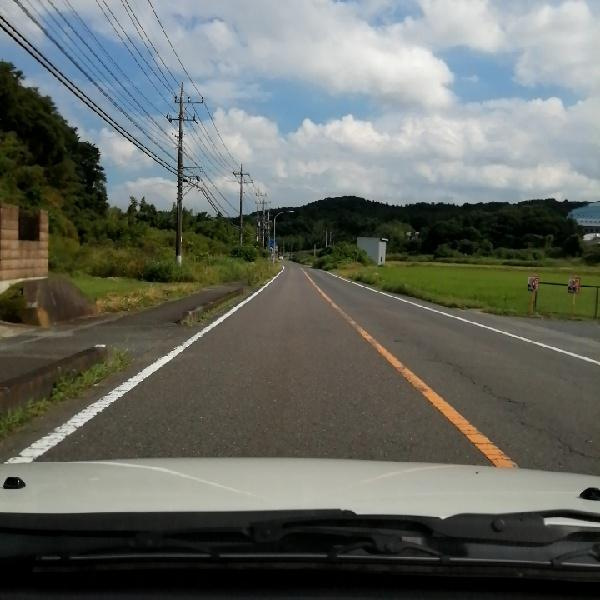D00: (438, 361, 593, 463)
D44: (438, 361, 593, 463)
